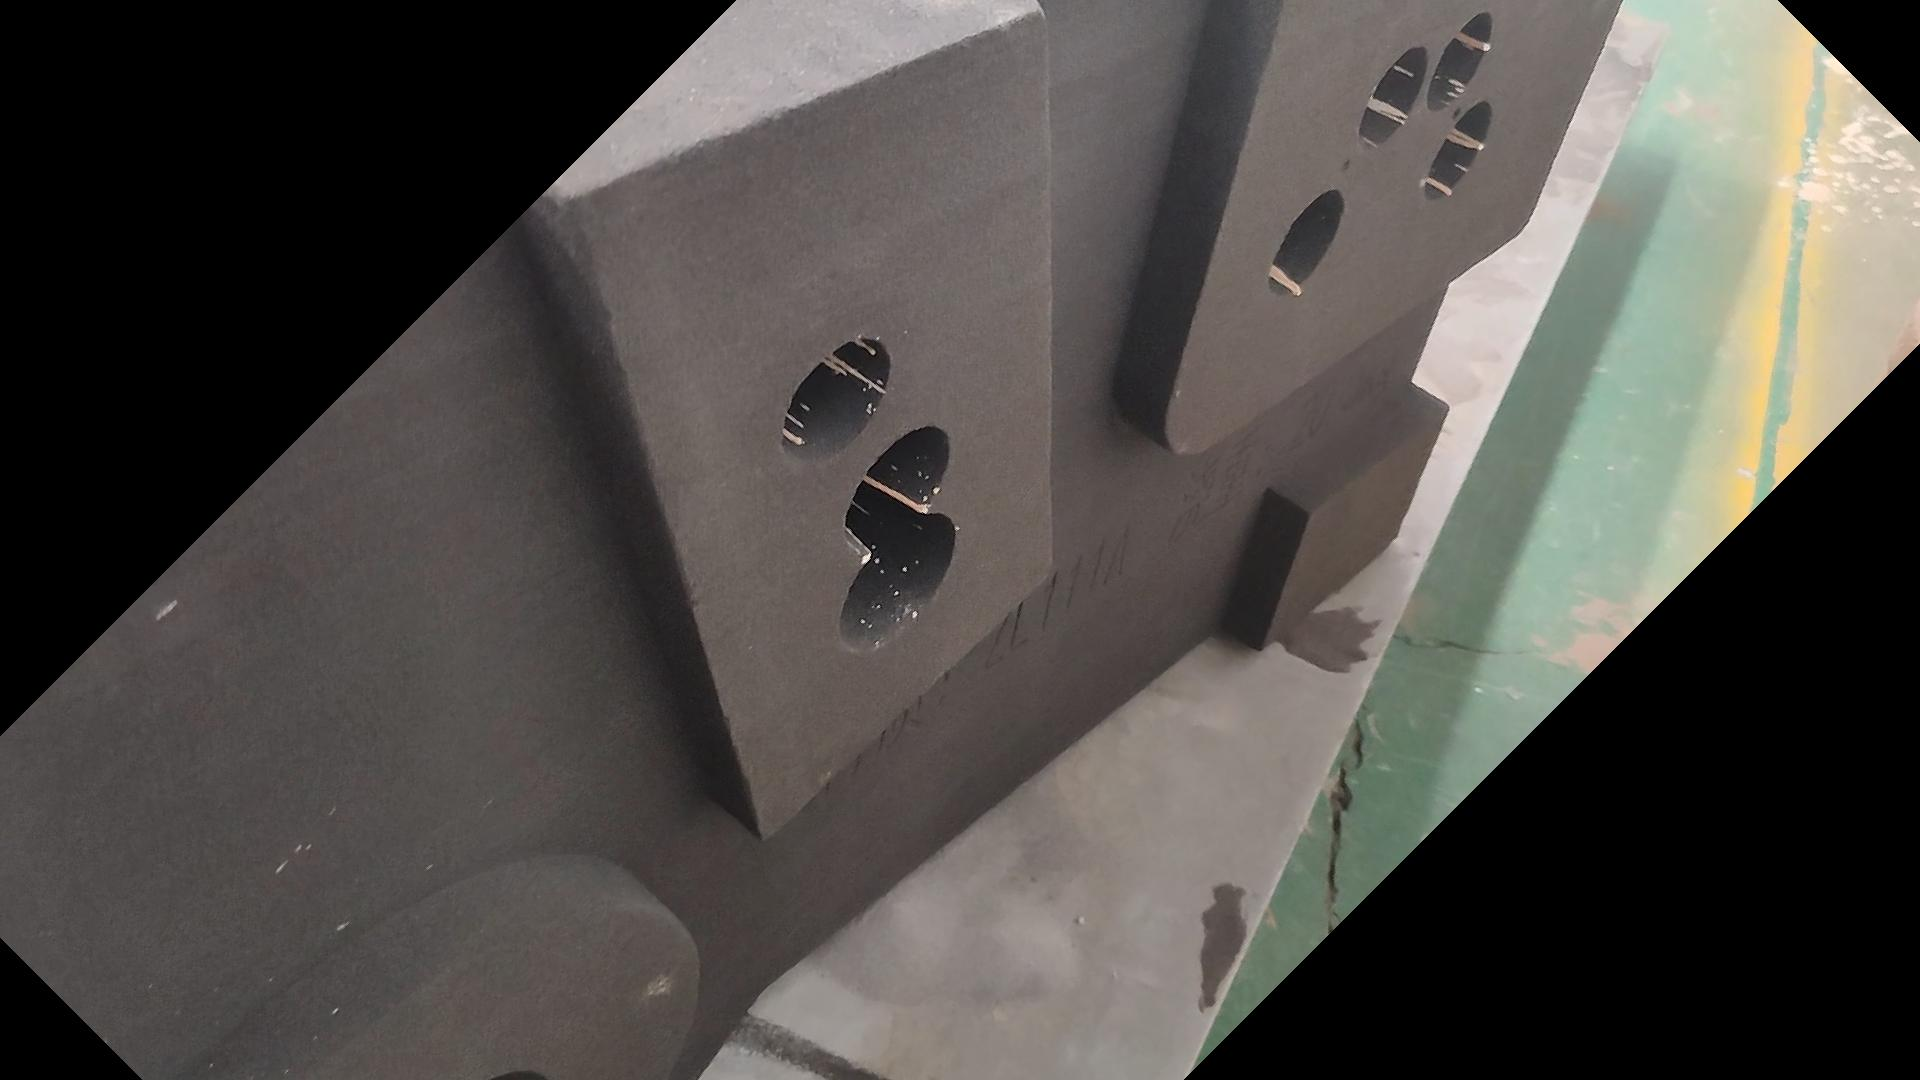pouring hole: (483, 1068, 545, 1080)
